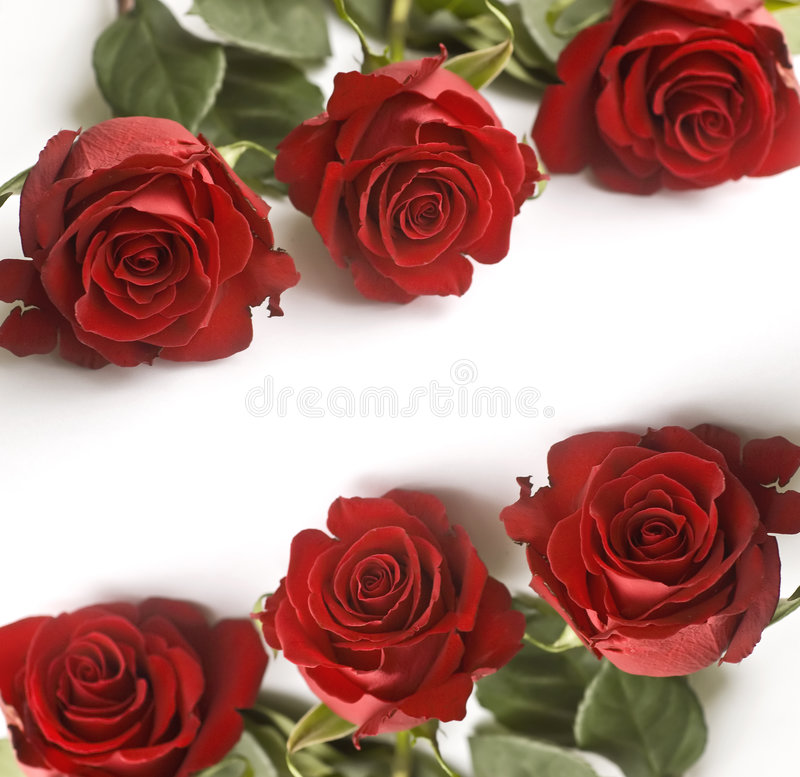RedRose: (10, 132, 311, 389), (517, 411, 777, 660), (0, 588, 289, 777), (538, 6, 800, 206), (289, 57, 496, 302), (276, 504, 500, 726)
